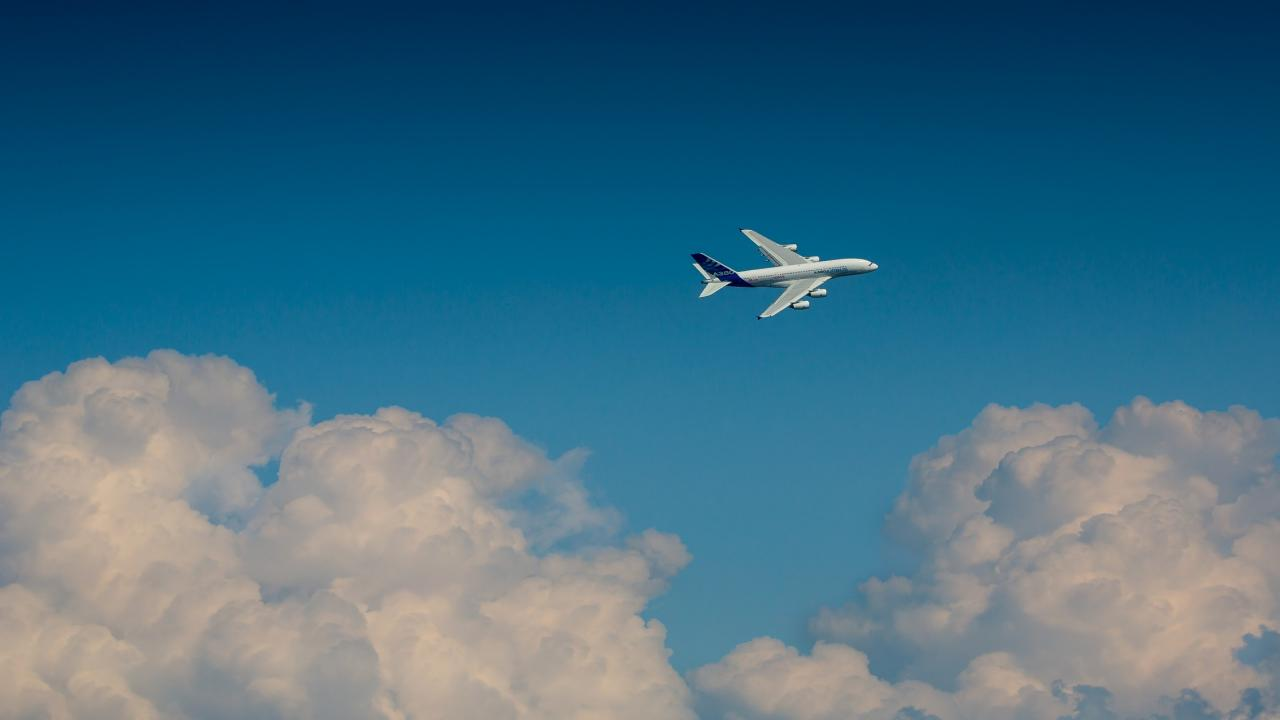Airplane: (680, 220, 890, 328)
